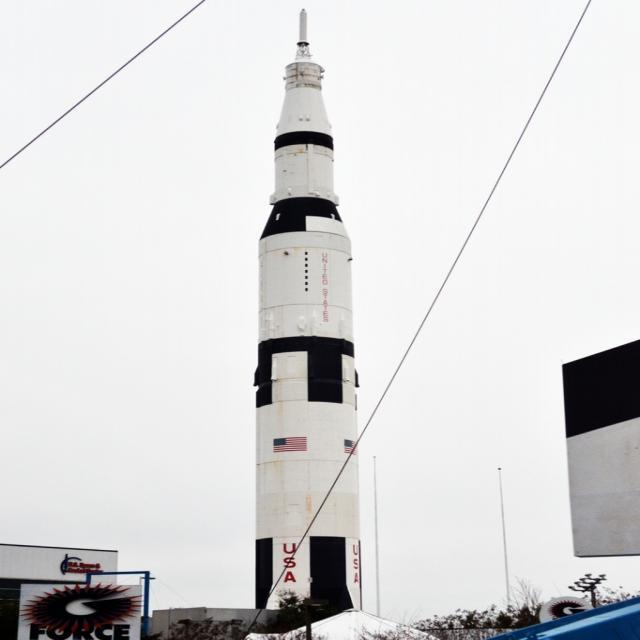Missile: (211, 58, 406, 640)
